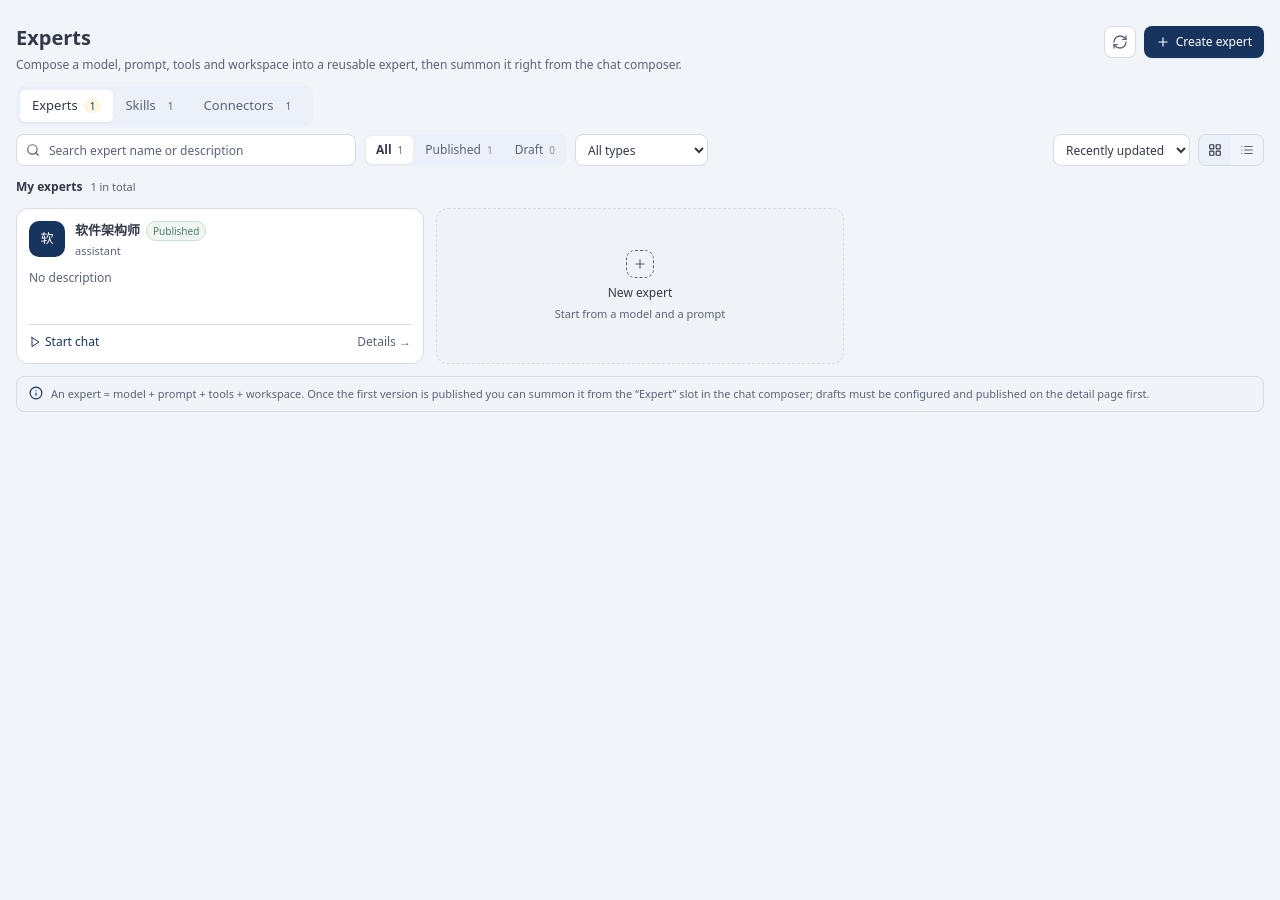
Scenario: Agents · 创建向导弹窗（V0.4.5 B5 · F-27.2） › 点击「创建 Agent」→ Dialog 承载 CreateAgentWizard
Step 1. Click the button with test id "toggle-wizard" → {"x": 1204, "y": 42}, box [1144,26,1264,58]
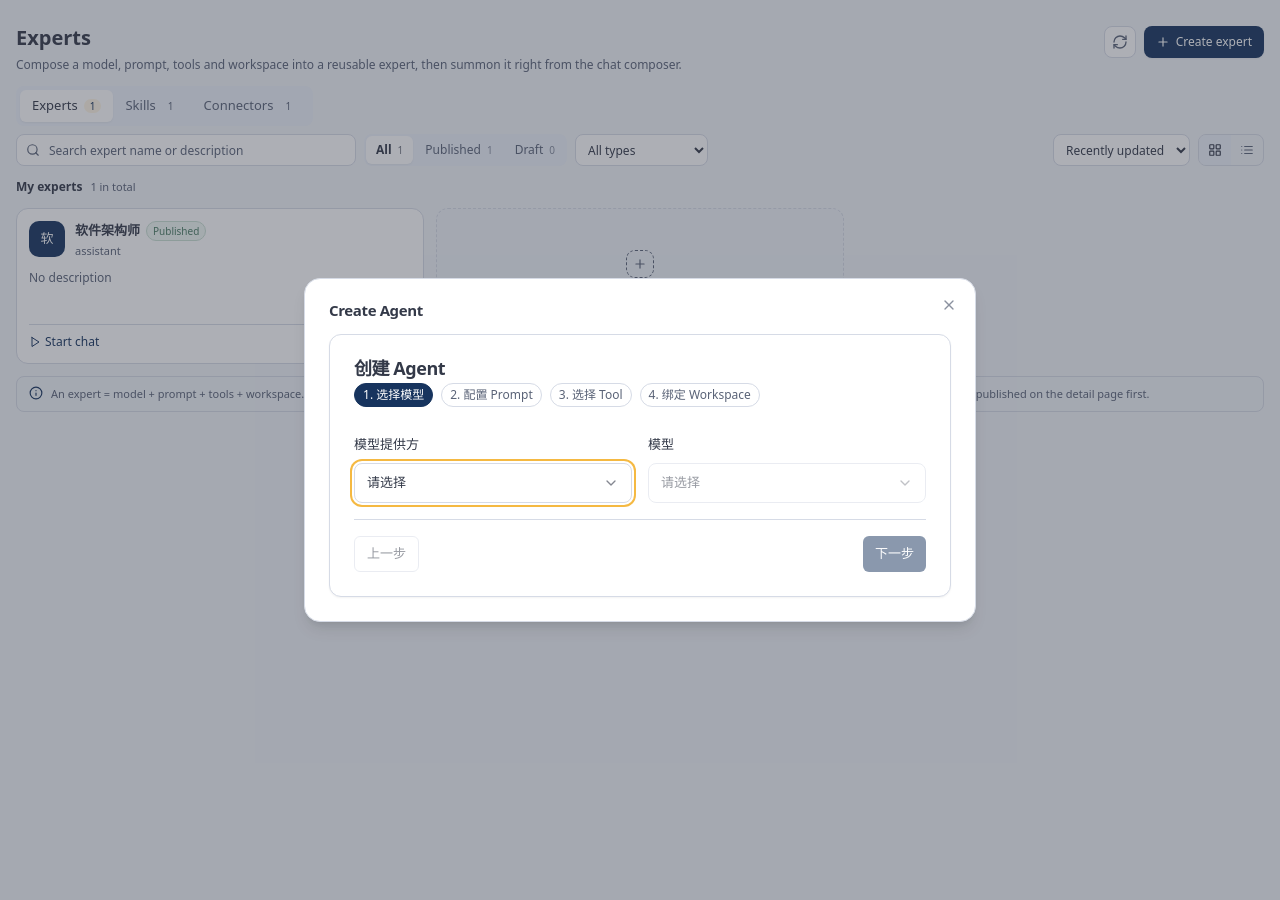
Expected: the dialog with test id "agents-wizard-dialog" is shown, [304,278,976,622]
Expected: the element with test id "create-agent-wizard" is shown, [329,334,951,597]
# 关闭弹窗 → 向导卸载。
Step 2. Click the button with test id "dialog-close" → {"x": 949, "y": 305}, box [939,295,959,315]
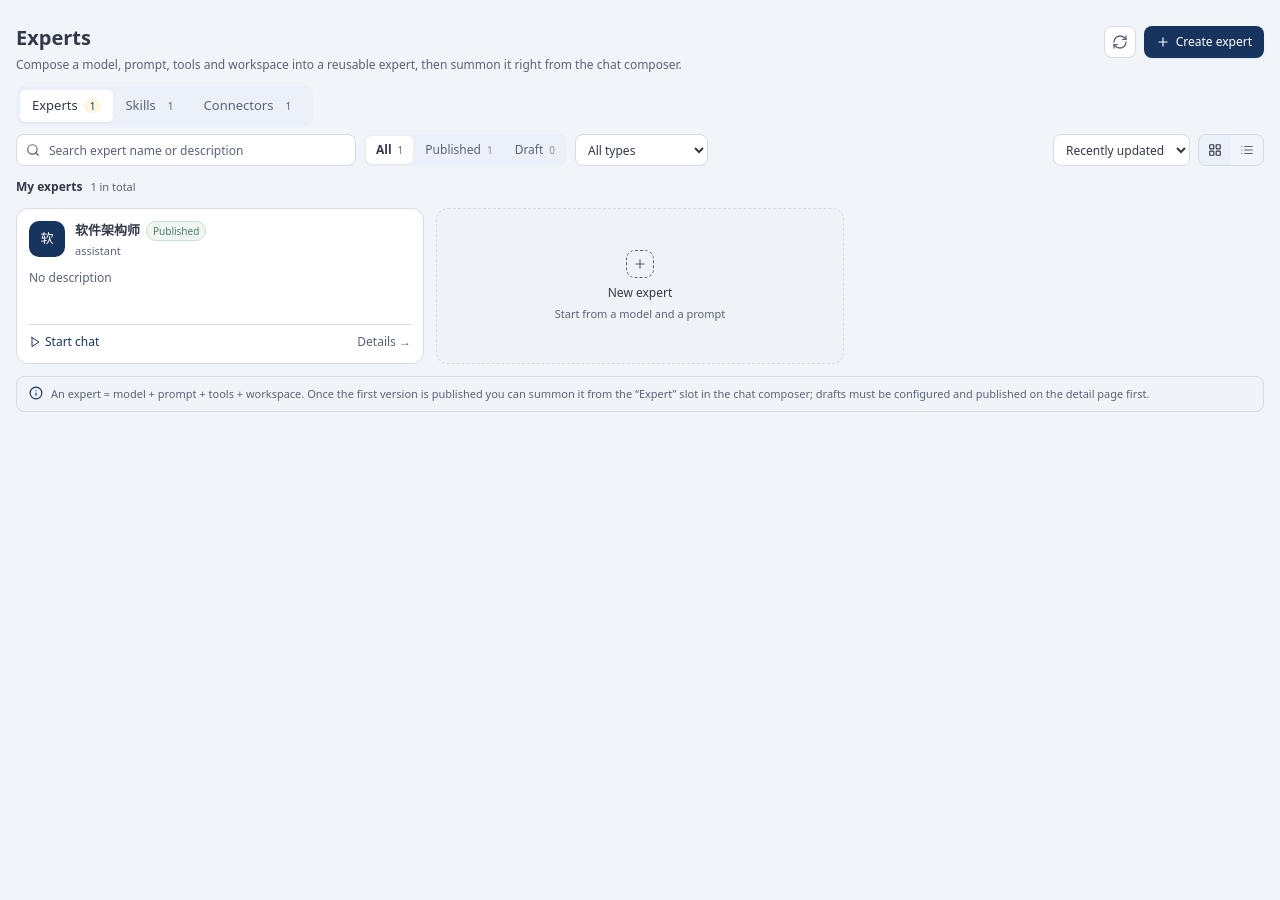
Expected: the dialog with test id "agents-wizard-dialog" is gone
